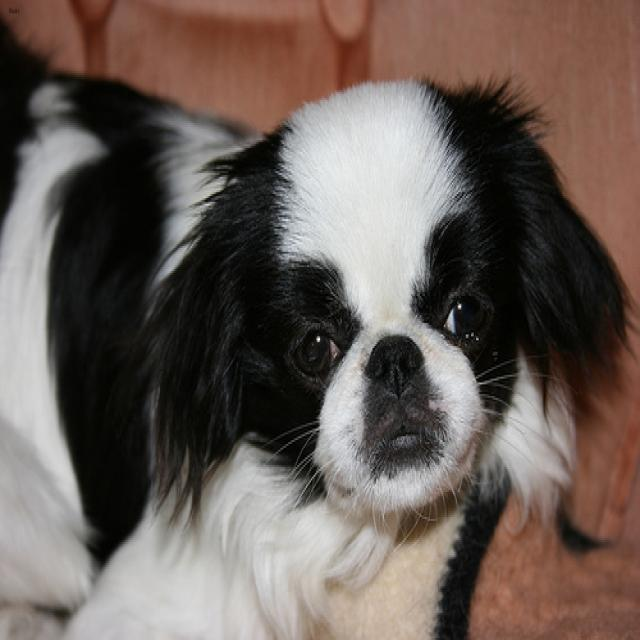dog-japanese_chin: (1, 2, 637, 636)
